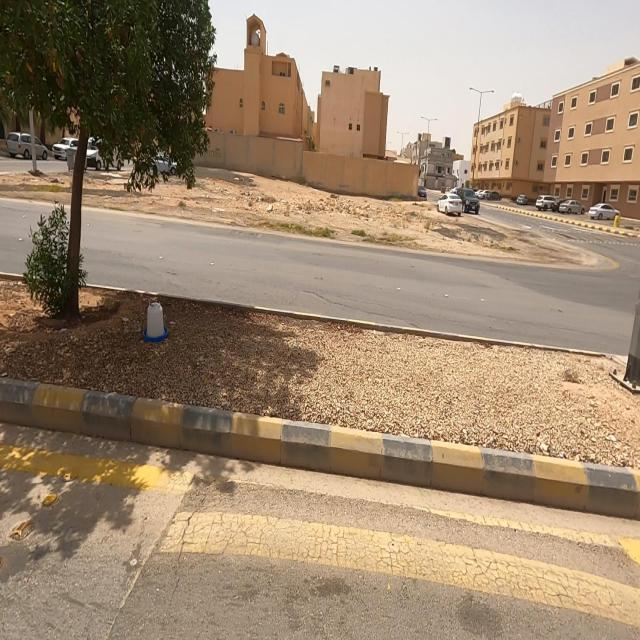debris: (106, 274, 212, 389)
